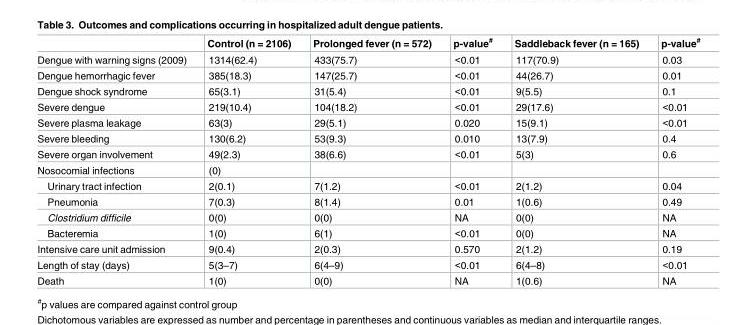table: (36, 36, 699, 285)
table column: (36, 36, 196, 285), (502, 36, 649, 285), (301, 36, 441, 285), (196, 36, 301, 285), (441, 36, 502, 285), (649, 36, 699, 285)
table column header: (36, 36, 699, 51)
table row: (36, 177, 699, 194), (36, 224, 699, 241), (36, 51, 699, 67), (36, 82, 699, 98), (36, 98, 699, 114), (36, 114, 699, 130), (36, 130, 699, 146), (36, 146, 699, 162), (36, 256, 699, 272), (36, 36, 699, 51), (36, 67, 699, 82), (36, 162, 699, 177), (36, 194, 699, 209), (36, 209, 699, 224), (36, 241, 699, 256), (36, 272, 699, 285)
